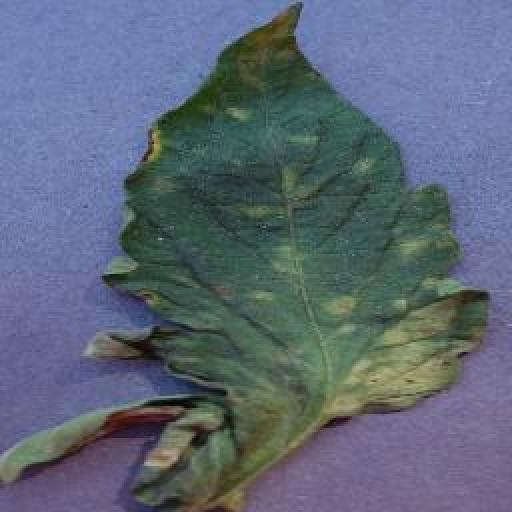Leaf Mold: (86, 0, 493, 512)
